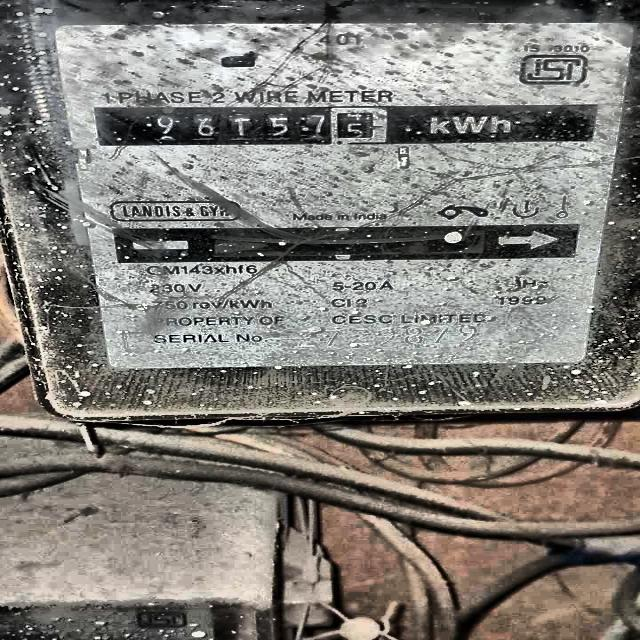Analog: (11, 5, 640, 421)
Reading: (142, 111, 393, 144)
Serial No.: (295, 325, 488, 347)
